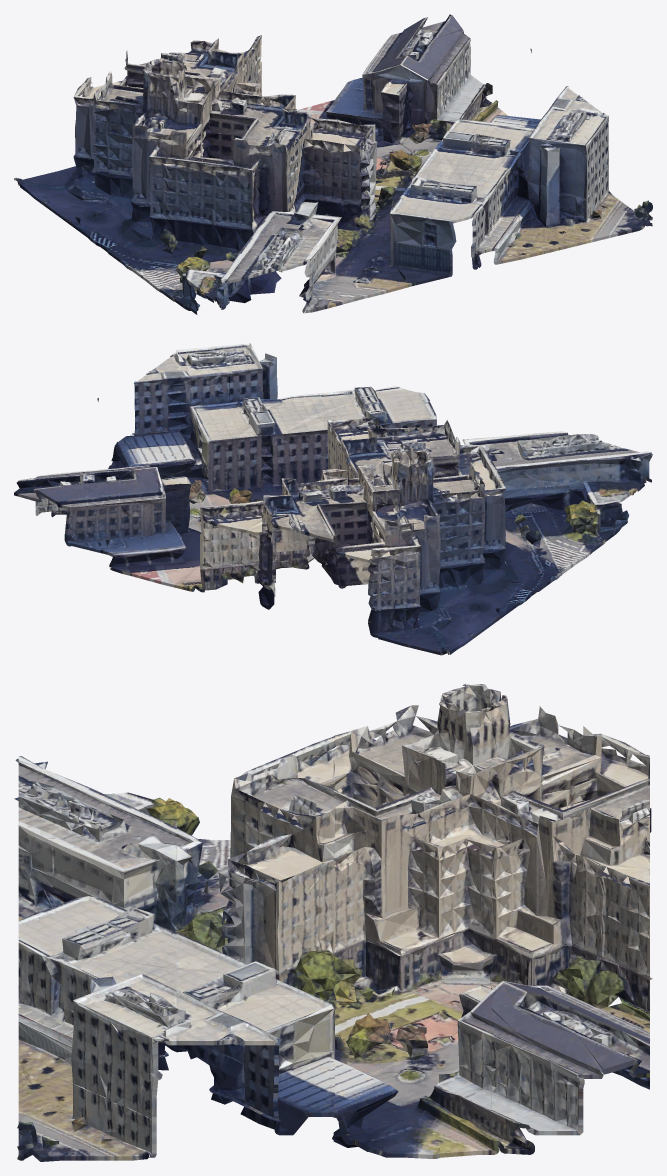
File: Split21.fbx
The picture shows the model from 3 angles, top to bottom: view 1: azimuth 30°, elevation 25°; view 2: azimuth 150°, elevation 25°; view 3: azimuth 270°, elevation 25°; orthographic projection. The views are drawn at different scales.
Visible parts, largest first — view 1: BuildingMesh-00000; view 2: BuildingMesh-00000; view 3: BuildingMesh-00000.
Boxes of the visible parts, x1,y1,x2,y2 form: BuildingMesh-00000: (14, 14, 652, 314); BuildingMesh-00000: (14, 343, 652, 655); BuildingMesh-00000: (14, 684, 652, 1161).
Size of the model in its own units: 196 by 65.49 by 162.
Materials: 7 (7 with a texture image).
